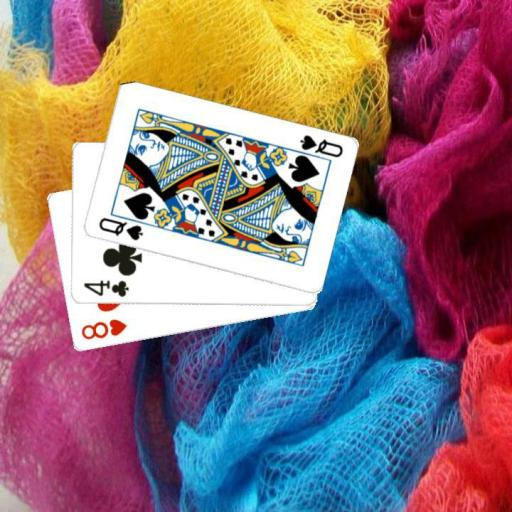4C: (80, 277, 130, 299)
8H: (78, 316, 128, 342)
QS: (96, 215, 145, 242), (296, 132, 344, 159)
